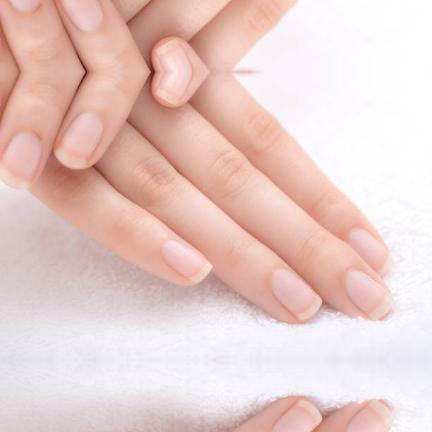Nail: (55, 112, 103, 169), (271, 268, 322, 321), (345, 270, 393, 320), (0, 132, 42, 189), (162, 239, 212, 283), (348, 228, 389, 270), (272, 399, 322, 432), (346, 400, 393, 432), (60, 0, 103, 32), (157, 72, 193, 103), (157, 41, 193, 72), (8, 0, 42, 12)
